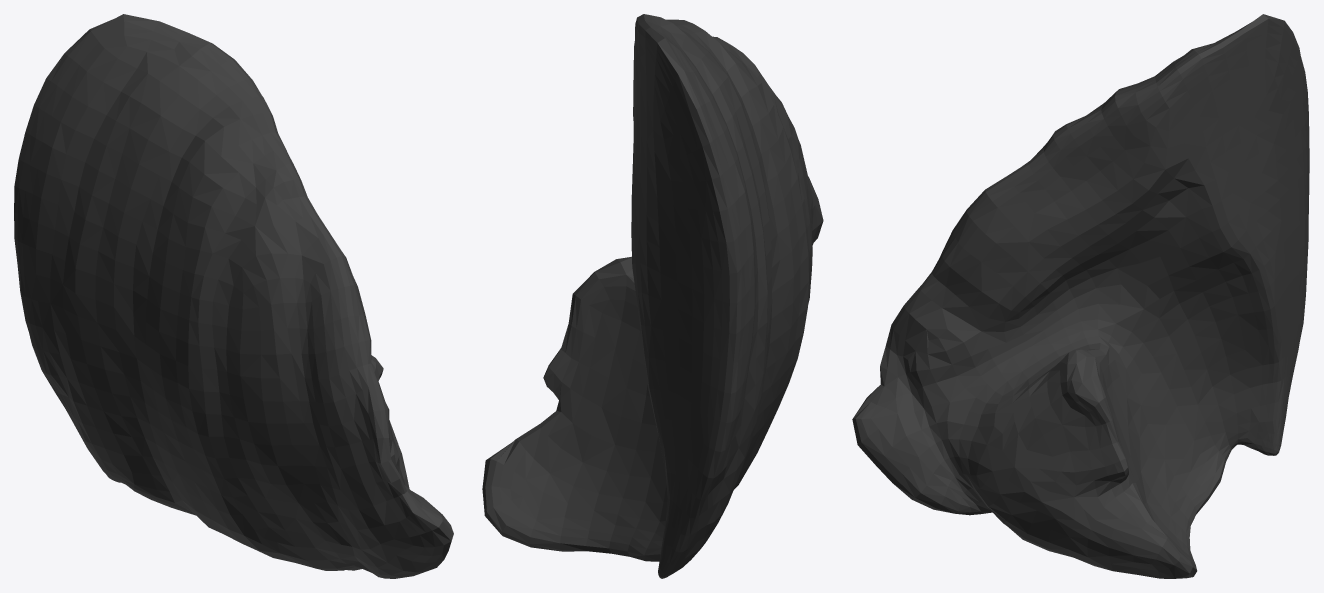
The model's file is R_lung_cranial_lobe_LOW.glb.
3 renders of one model, left to right at view 1: azimuth 30°, elevation 25°; view 2: azimuth 150°, elevation 25°; view 3: azimuth 270°, elevation 25°, orthographic. The views are drawn at different scales.
Visible parts, largest first — view 1: R_lung_cranial_lobe_LOW; view 2: R_lung_cranial_lobe_LOW; view 3: R_lung_cranial_lobe_LOW.
Part boxes in pixels (x1,y1,x2,y2): R_lung_cranial_lobe_LOW: [14, 14, 453, 578]; R_lung_cranial_lobe_LOW: [482, 14, 823, 578]; R_lung_cranial_lobe_LOW: [852, 14, 1309, 578].
Size of the model in its own units: 0.00803 by 0.0132 by 0.0112.
1 material, 1 textured.
